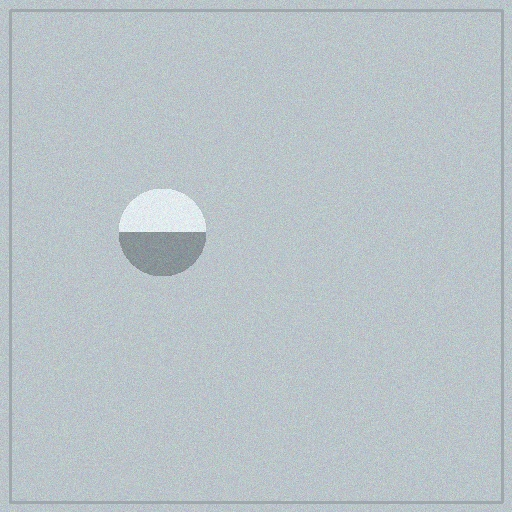deformation: (113, 183, 211, 281)
